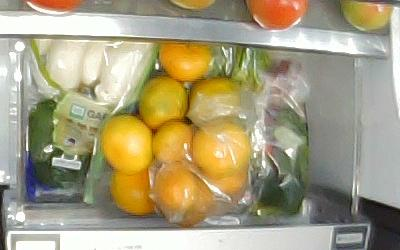tangerine: (101, 115, 152, 173), (138, 77, 188, 128), (107, 166, 156, 214), (158, 42, 212, 80), (152, 121, 193, 163)
tangerine_vinyl: (154, 163, 211, 226), (193, 120, 250, 176), (189, 77, 240, 127), (202, 168, 246, 195)
